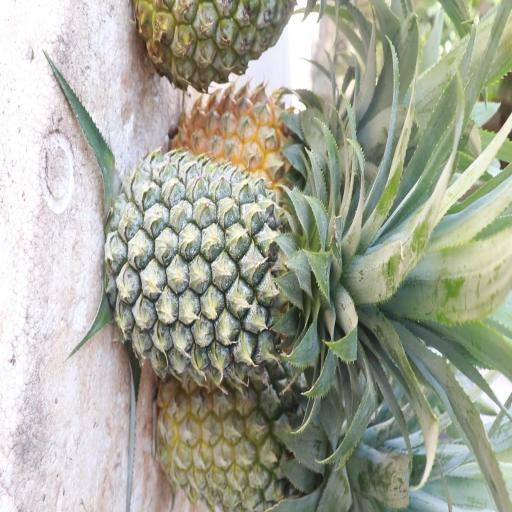------------------------------: (153, 357, 321, 512)
Pineapple - v8 v1: (177, 73, 326, 209)
